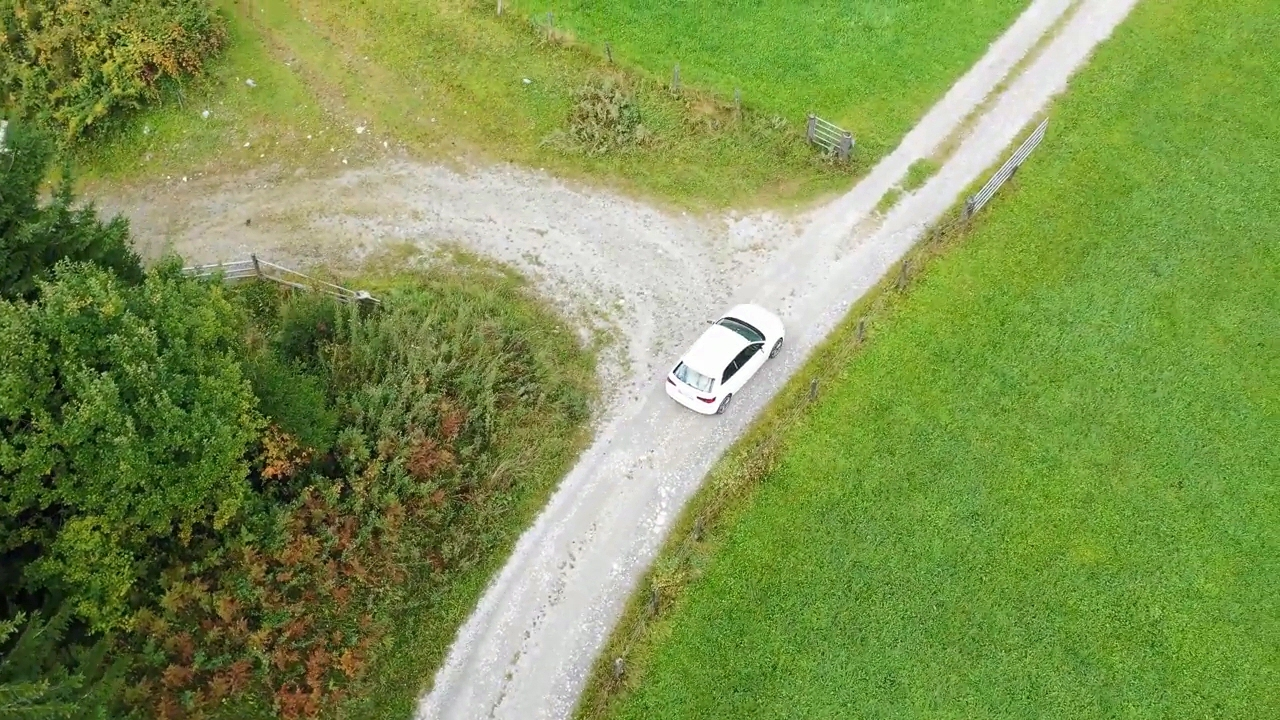araba: (664, 300, 787, 417)
